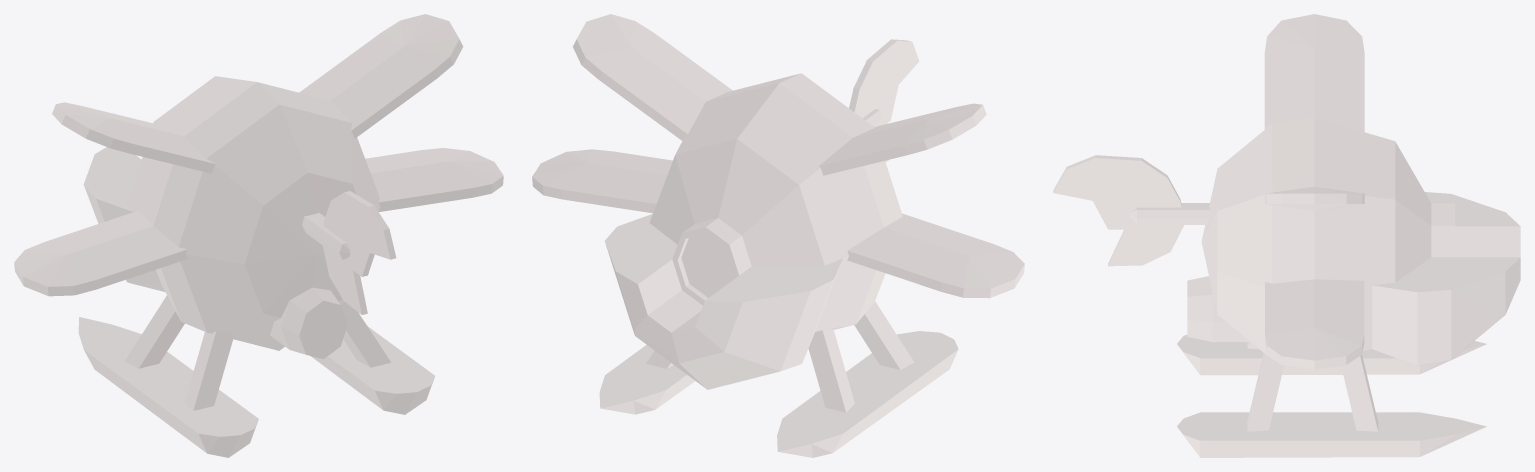
The model's file is static.ico.obj.
The picture shows the model from 3 angles, left to right: view 1: azimuth 30°, elevation 25°; view 2: azimuth 150°, elevation 25°; view 3: azimuth 270°, elevation 25°; orthographic projection. The views are drawn at different scales.
Bounding box in the file's own units: 2.44 × 1.61 × 2.18.
